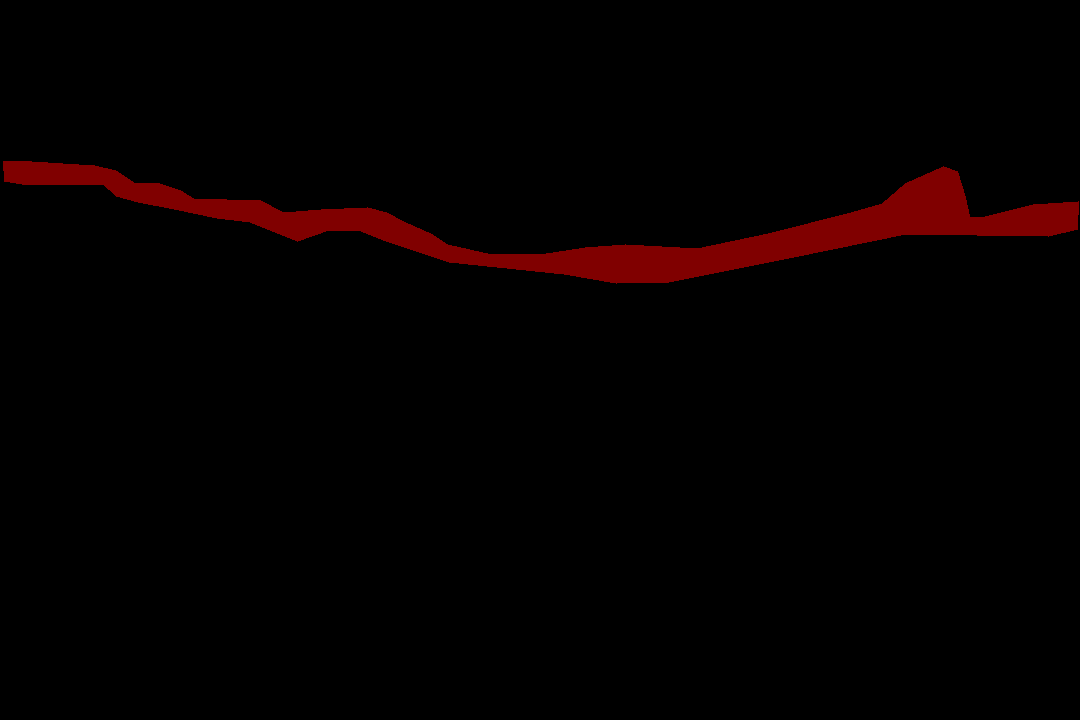fire: (3, 161, 1078, 283)
